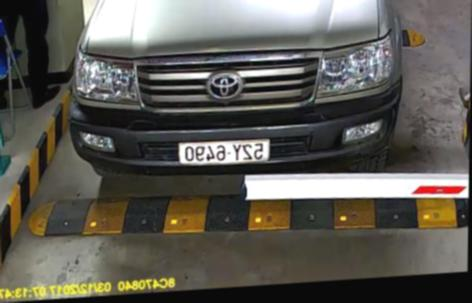License_Plate: (175, 136, 273, 167)
